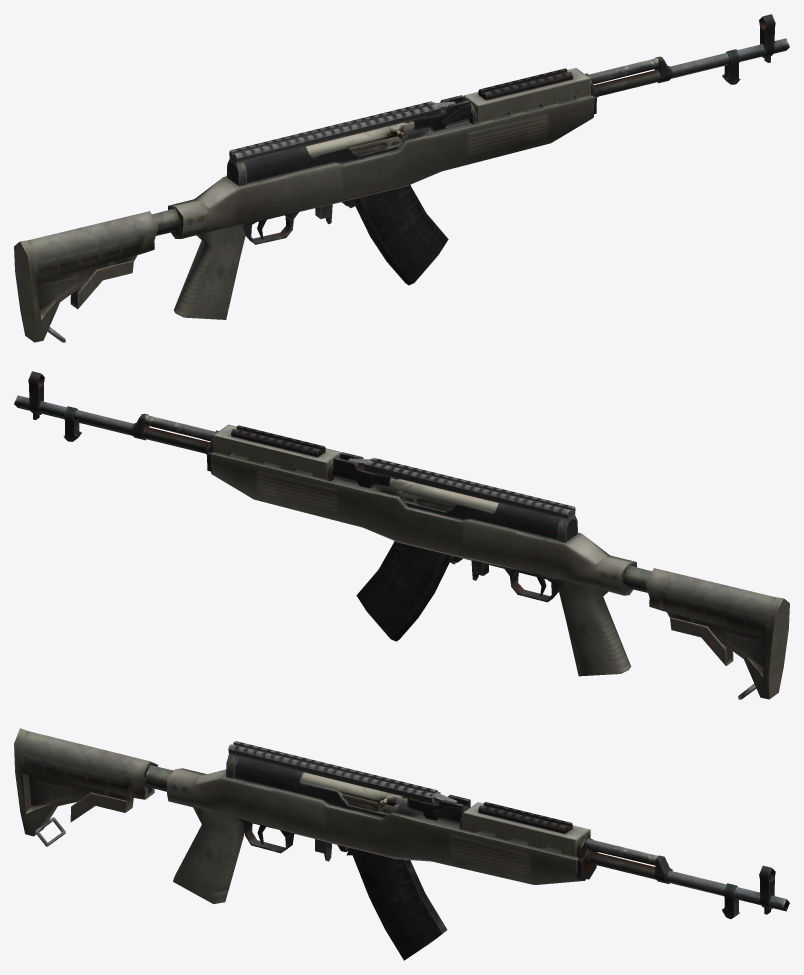
Rendered from ST_WEP_SKS_Lod.FBX.
3 renders of one model, top to bottom at view 1: azimuth 30°, elevation 25°; view 2: azimuth 150°, elevation 25°; view 3: azimuth 330°, elevation 25°, orthographic.
Parts seen in each view (by area): view 1: ST_WEP_SKS_Lod; view 2: ST_WEP_SKS_Lod; view 3: ST_WEP_SKS_Lod.
Boxes of the visible parts, left/top/right/bottom form: ST_WEP_SKS_Lod: left=14, top=14, right=789, bottom=342; ST_WEP_SKS_Lod: left=14, top=371, right=789, bottom=699; ST_WEP_SKS_Lod: left=14, top=728, right=789, bottom=960.
Bounding box in the file's own units: 106 × 23.83 × 5.04.
Materials: 1 (1 with a texture image).
